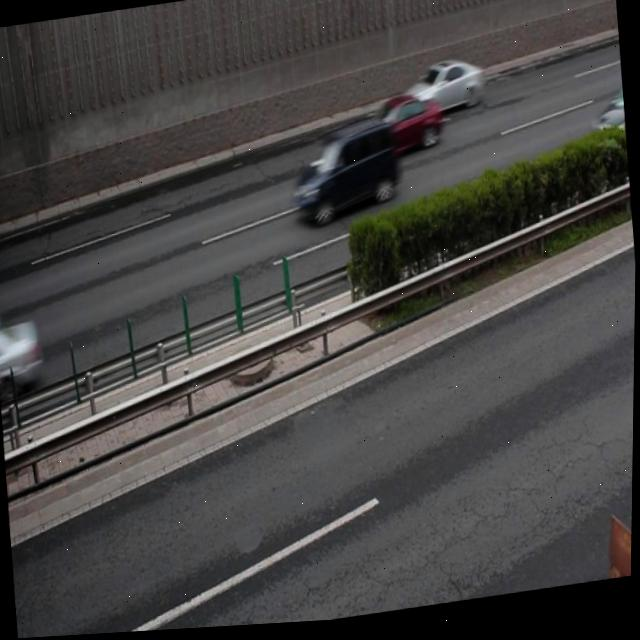car: (400, 57, 485, 128), (366, 90, 443, 167), (0, 307, 46, 407), (589, 90, 628, 158)
truck: (287, 117, 400, 225)
